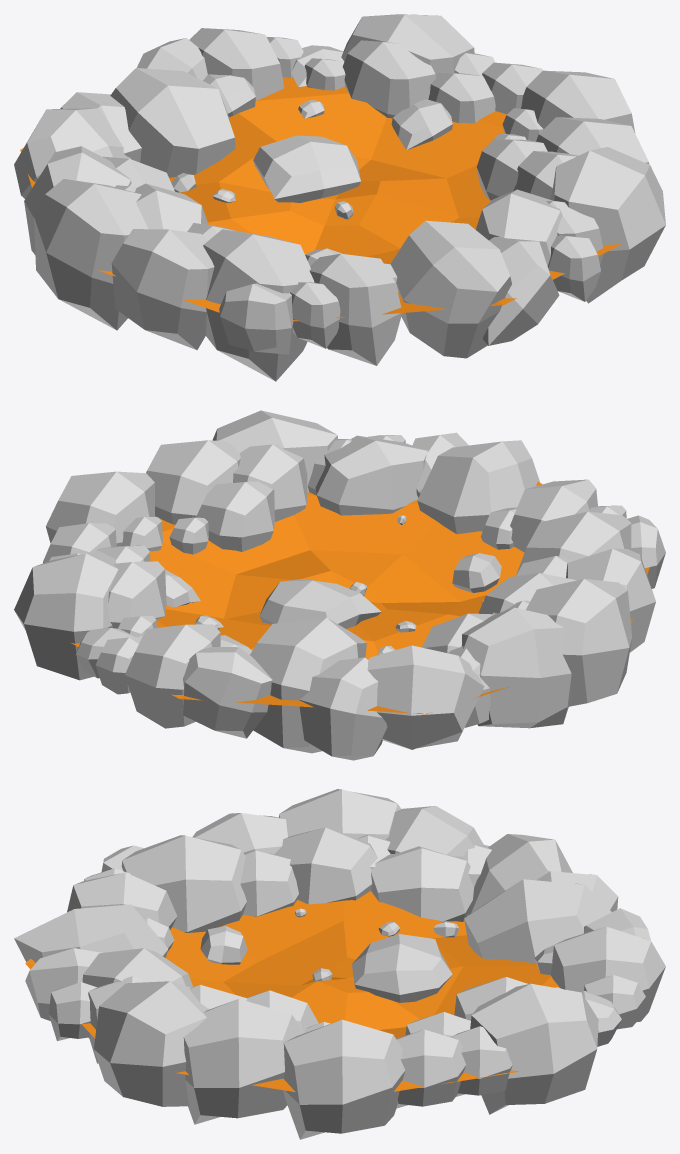
File: Chalice_Ale.fbx
3 renders of one model, top to bottom at view 1: azimuth 30°, elevation 25°; view 2: azimuth 150°, elevation 25°; view 3: azimuth 270°, elevation 25°, orthographic. The views are drawn at different scales.
Visible parts, largest first — view 1: Challice_Ale_Foam, Challice_Liquid_Ale; view 2: Challice_Ale_Foam, Challice_Liquid_Ale; view 3: Challice_Ale_Foam, Challice_Liquid_Ale.
Boxes of the visible parts, bbox=[...] form: Challice_Ale_Foam: bbox=[14, 14, 665, 381]; Challice_Liquid_Ale: bbox=[20, 77, 621, 321]; Challice_Ale_Foam: bbox=[14, 410, 665, 760]; Challice_Liquid_Ale: bbox=[71, 481, 649, 714]; Challice_Ale_Foam: bbox=[14, 789, 665, 1139]; Challice_Liquid_Ale: bbox=[25, 891, 598, 1092].
Bounding box in the file's own units: 150 × 38.33 × 150.
